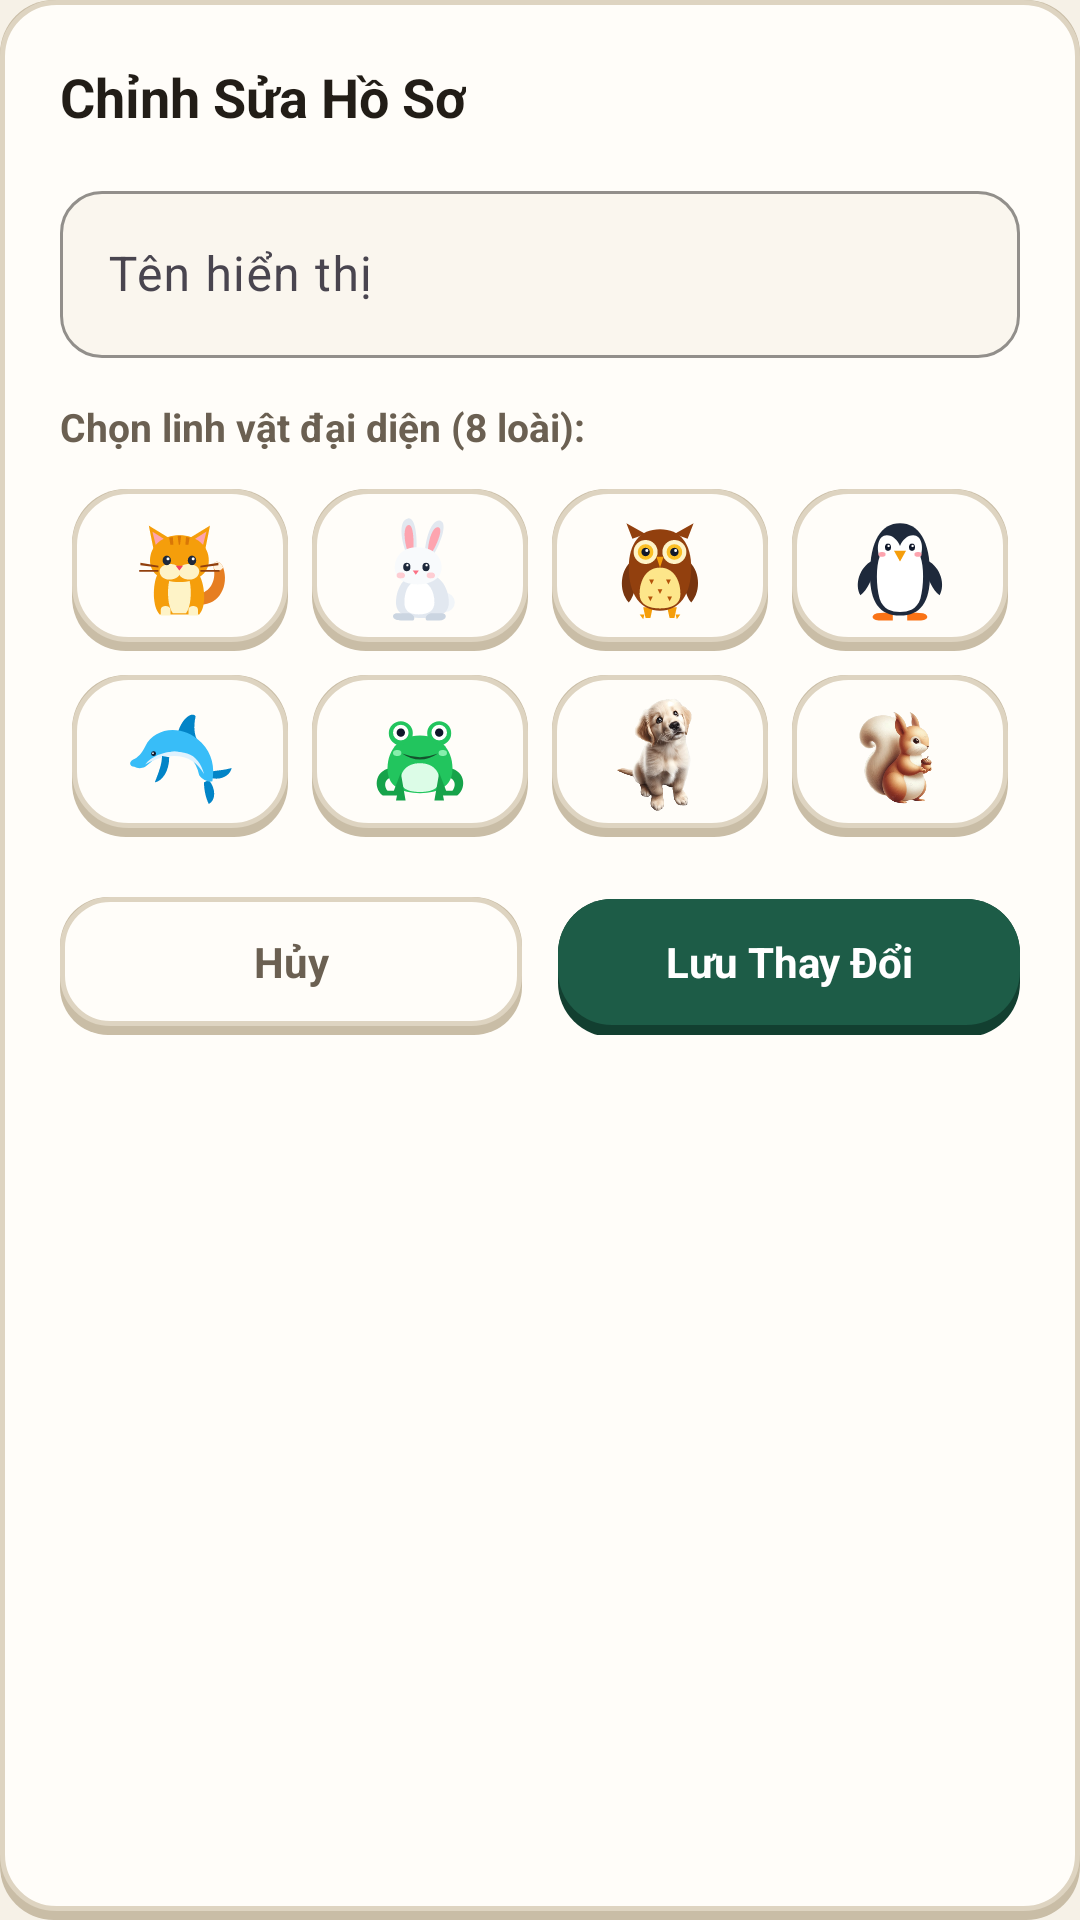

Screen size 1080w x 1920h. Icon name, then its center in pixels as [x,y]:
animal cat: [182,570]
animal dolphin: [181,759]
animal frog: [420,761]
animal owl: [659,571]
animal penguin: [899,572]
animal rabbit: [421,570]
con cho: [654,755]
con soc: [895,758]
